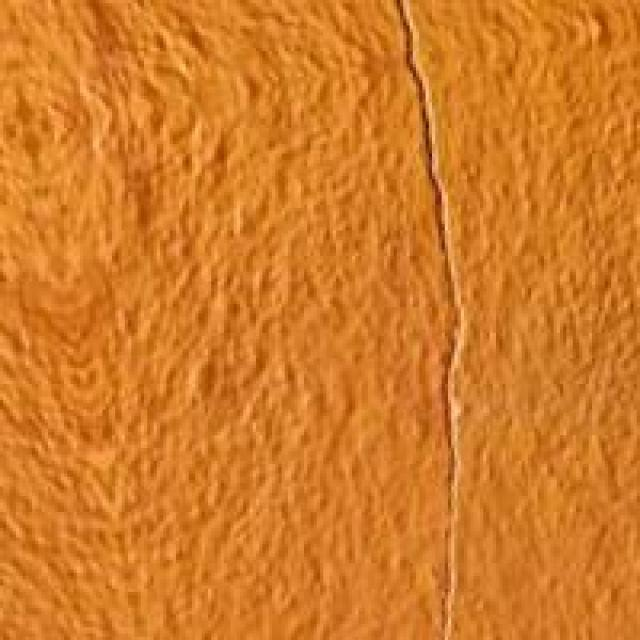crack: (342, 0, 548, 499)
